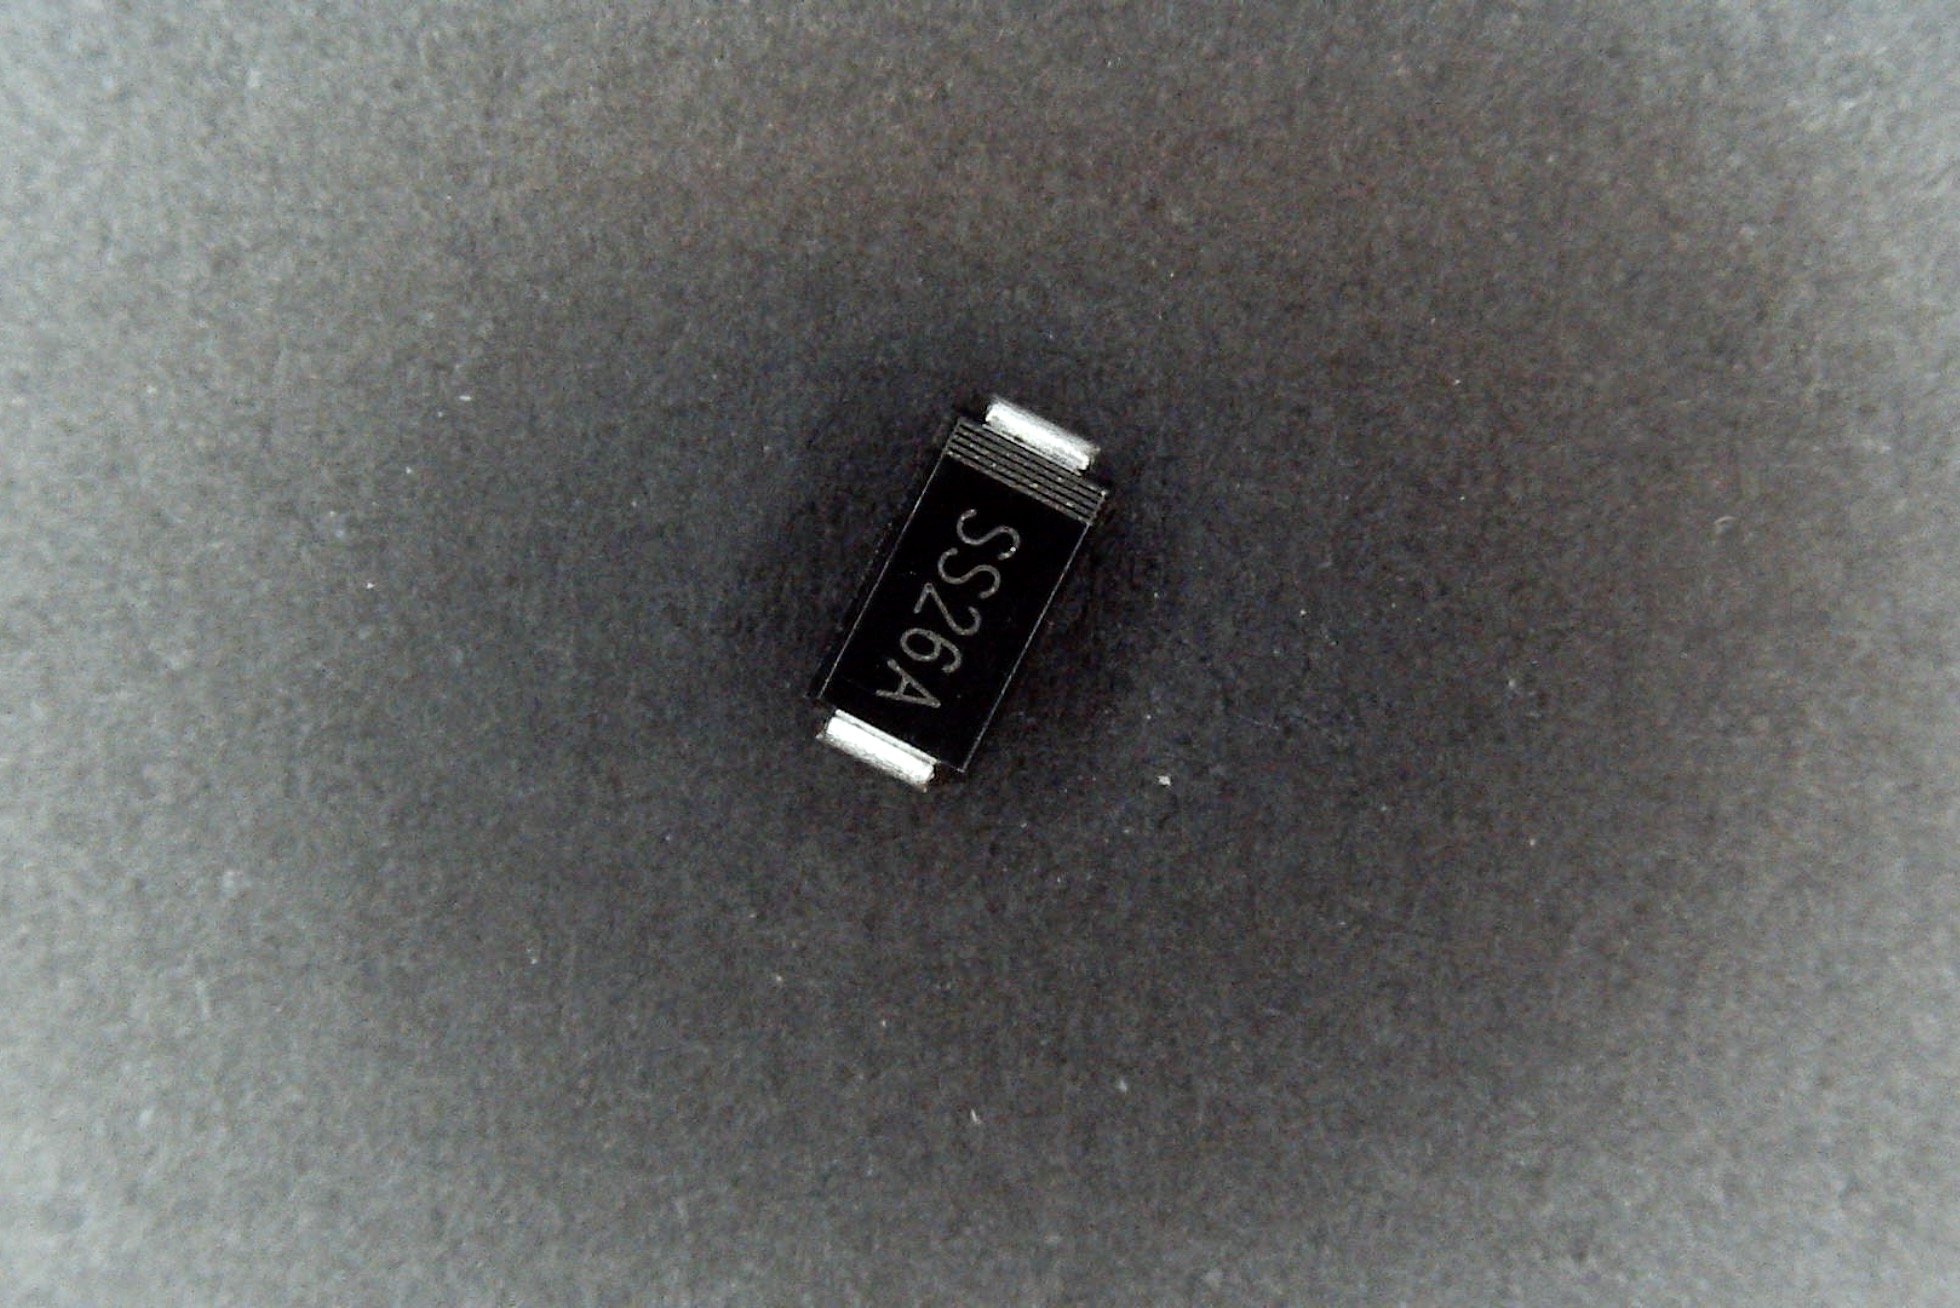bbox: (811, 393, 1112, 799)
